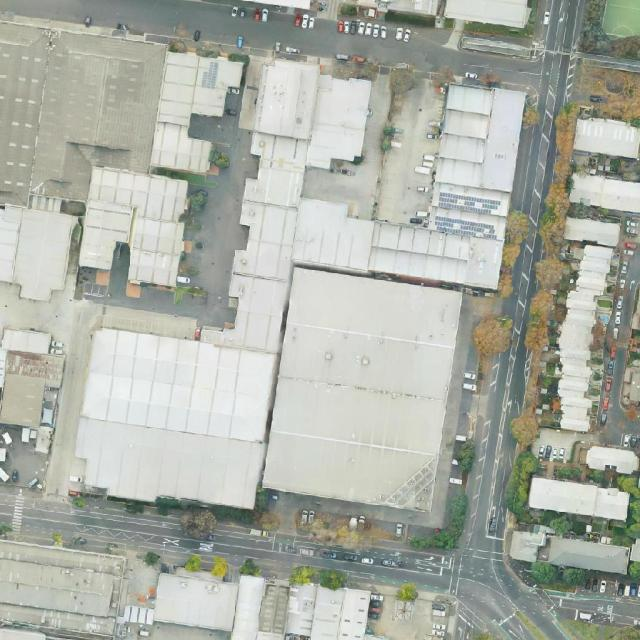building: (263, 267, 463, 513), (69, 326, 280, 517), (236, 188, 507, 294), (426, 80, 527, 242), (0, 285, 96, 452), (247, 56, 375, 173), (77, 166, 193, 289), (547, 242, 614, 433), (221, 200, 302, 354), (0, 206, 77, 303), (243, 132, 309, 210), (0, 539, 127, 578), (527, 476, 631, 521), (0, 603, 116, 636), (96, 304, 197, 339), (191, 55, 243, 120), (547, 536, 631, 576), (150, 122, 214, 174), (157, 51, 200, 126), (231, 54, 271, 132), (527, 476, 599, 516), (574, 115, 640, 158), (563, 216, 621, 246), (508, 529, 548, 563), (622, 550, 629, 570)
greenland: (524, 153, 581, 352), (409, 487, 489, 569), (508, 323, 549, 451), (210, 485, 276, 535), (498, 448, 542, 521), (497, 210, 532, 300), (518, 503, 588, 541), (471, 312, 515, 358), (550, 100, 580, 162), (288, 564, 349, 591), (616, 473, 640, 539), (530, 560, 586, 588), (179, 509, 220, 542), (153, 496, 207, 521), (456, 440, 475, 481), (205, 146, 233, 172), (553, 465, 583, 481), (183, 552, 204, 574), (189, 190, 208, 214), (396, 582, 418, 602), (211, 556, 230, 577), (239, 558, 260, 576), (143, 549, 161, 569)
metalled_road: (446, 0, 589, 623), (0, 483, 461, 612), (0, 0, 545, 95), (94, 74, 284, 332), (455, 615, 476, 640)
